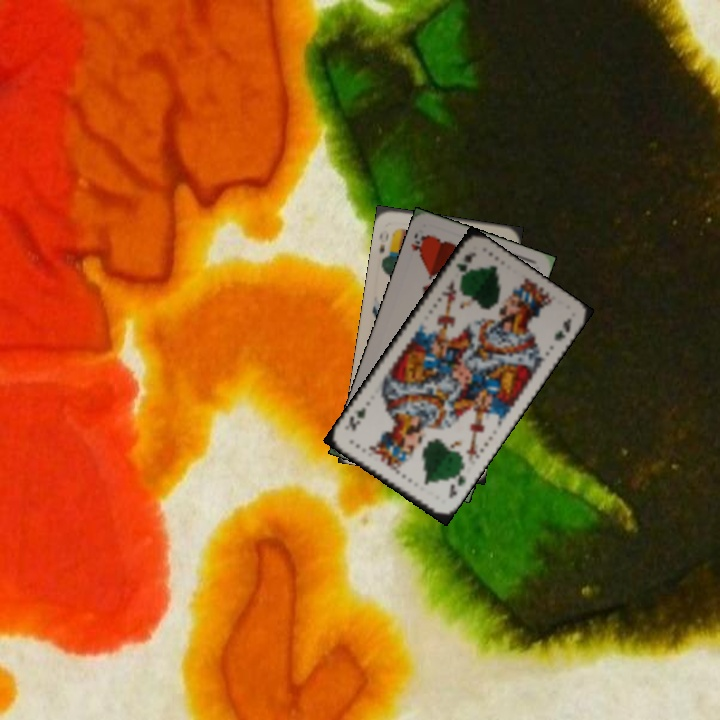EO: (375, 226, 391, 256)
GK: (453, 248, 479, 283), (444, 467, 469, 501)
HO: (406, 228, 430, 259)
